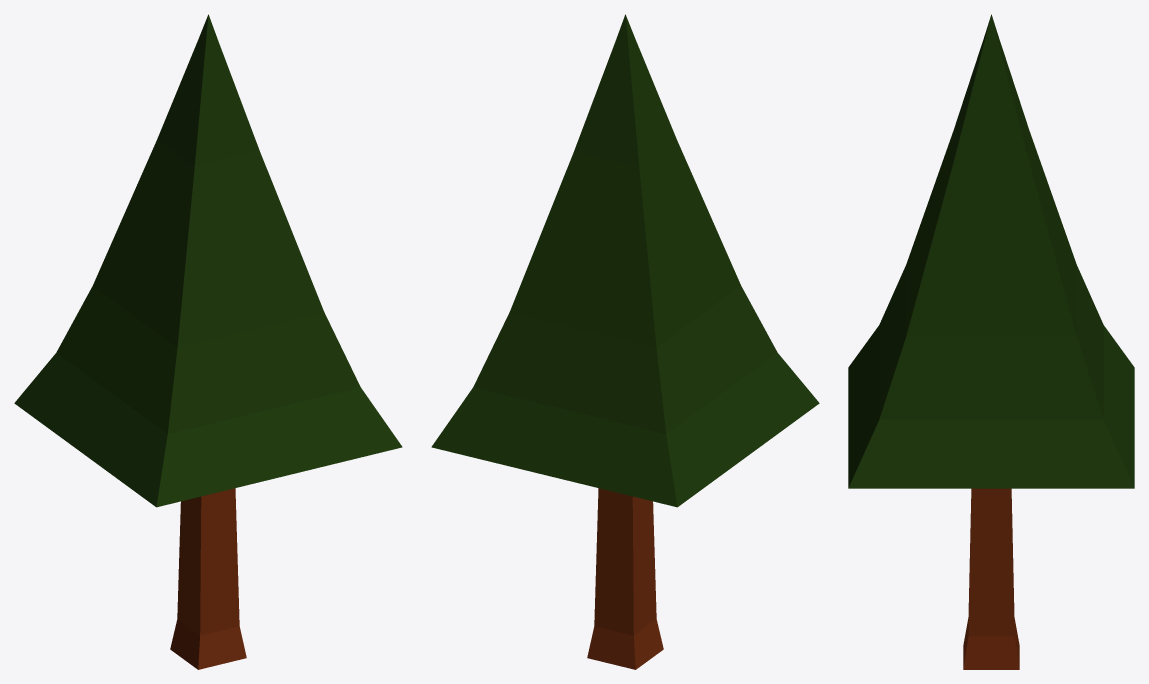
The model's file is Tree1.obj.
3 renders of one model, left to right at view 1: azimuth 30°, elevation 25°; view 2: azimuth 150°, elevation 25°; view 3: azimuth 270°, elevation 25°, orthographic.
Parts seen in each view (by area): view 1: Tree1; view 2: Tree1; view 3: Tree1.
Boxes of the visible parts, x1=… form: Tree1: x1=14, y1=14, x2=402, y2=669; Tree1: x1=431, y1=14, x2=819, y2=669; Tree1: x1=848, y1=14, x2=1134, y2=669.
Bounding box in the file's own units: 2.26 × 5.6 × 2.26.
